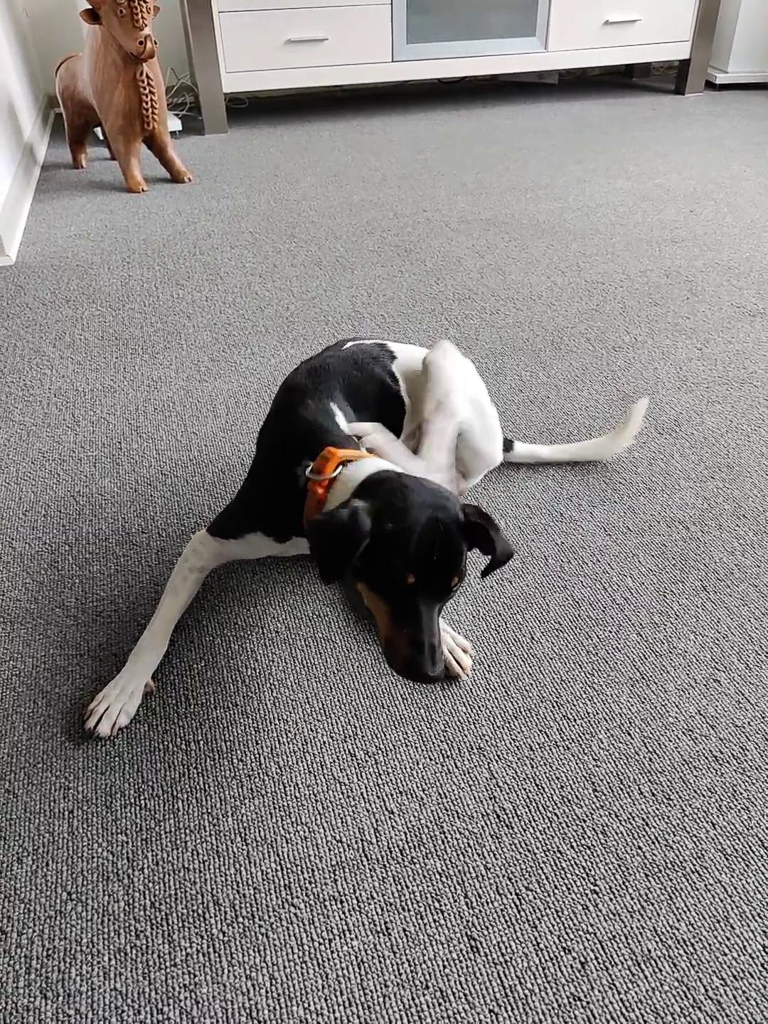Cattle: (48, 0, 200, 200)
Dog: (69, 319, 665, 762)
